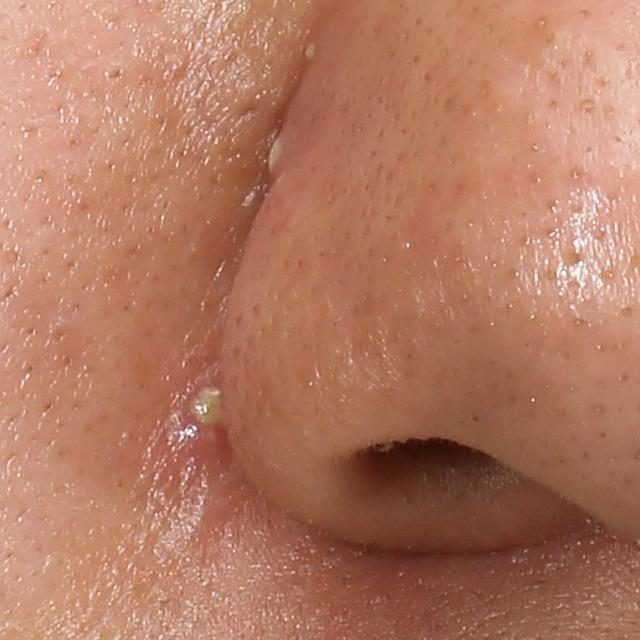comedo: (100, 60, 125, 85), (577, 96, 596, 113)
pustule: (182, 380, 230, 437), (298, 39, 323, 67)
